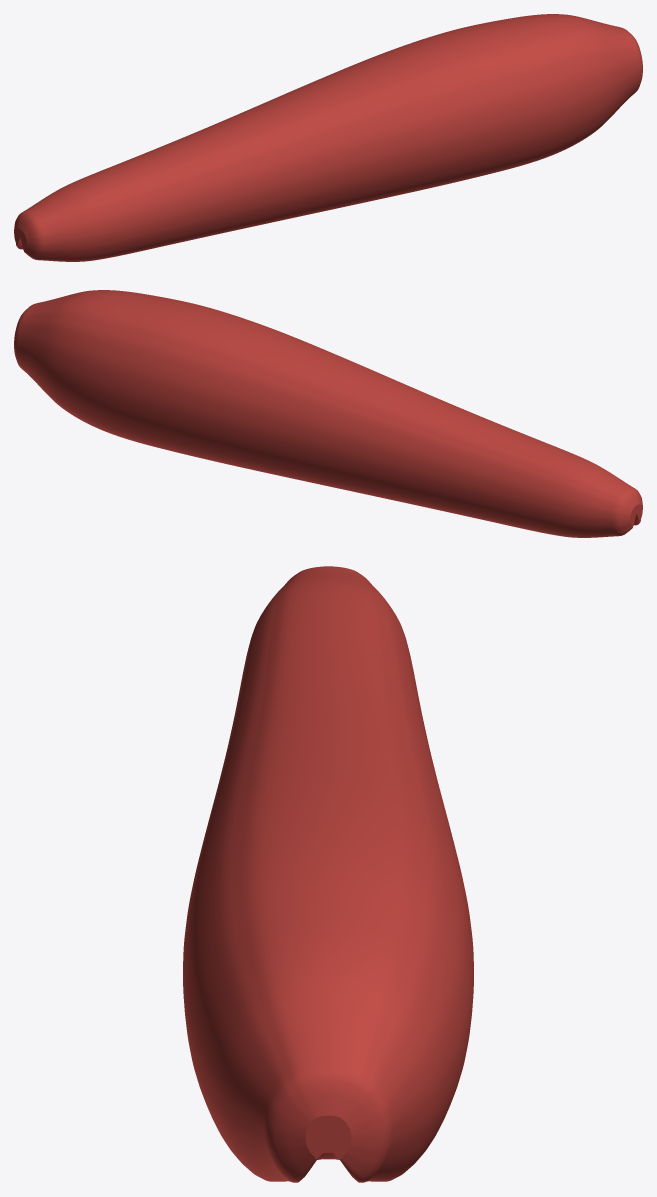
Rendered from chopper_2.glb.
3 renders of one model, top to bottom at view 1: azimuth 30°, elevation 25°; view 2: azimuth 150°, elevation 25°; view 3: azimuth 270°, elevation 25°, orthographic. The views are drawn at different scales.
Visible parts, largest first — view 1: chopper_2; view 2: chopper_2; view 3: chopper_2.
Boxes of the visible parts, box(x1,y1,x2,y2) form: chopper_2: box(14, 14, 642, 261); chopper_2: box(14, 290, 642, 537); chopper_2: box(183, 566, 473, 1182).
Size of the model in its own units: 1.06 by 0.1996 by 0.2183.
